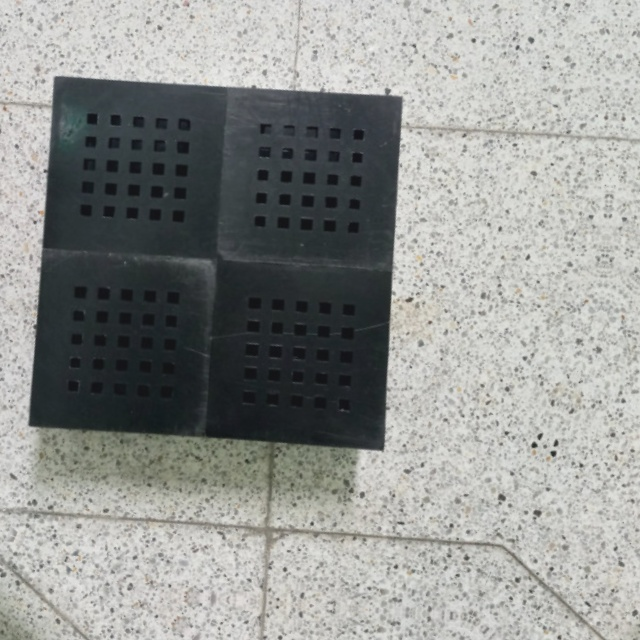pallet: (15, 61, 415, 466)
